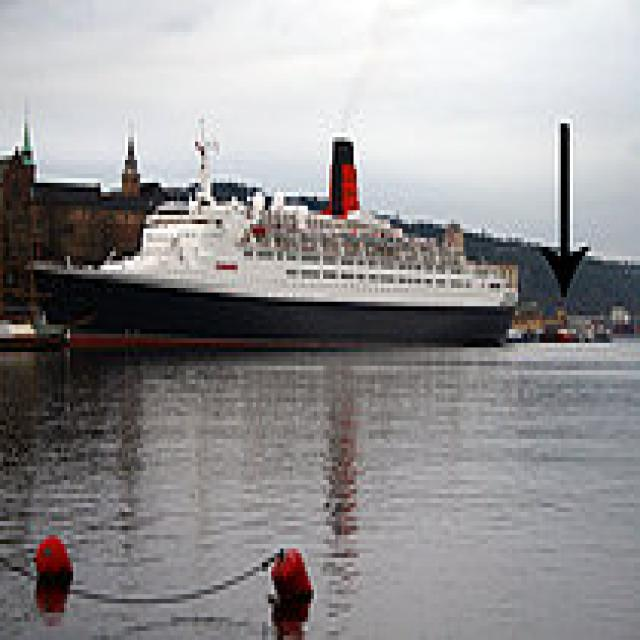Cruise: (21, 110, 515, 343)
